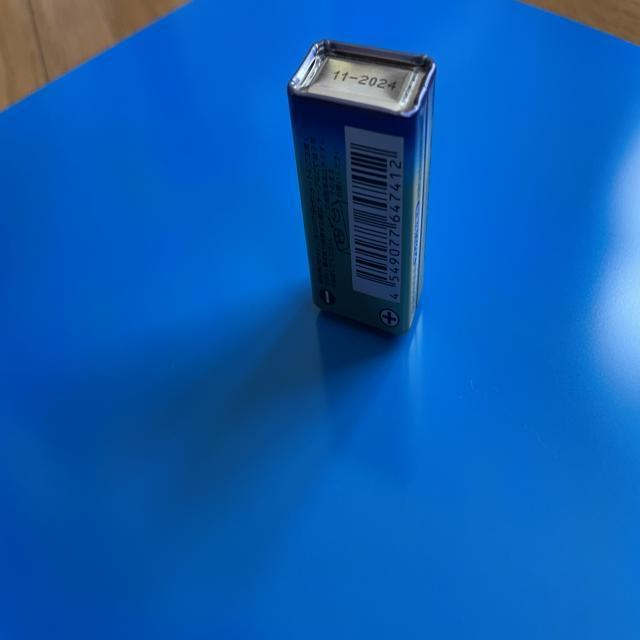9V: (286, 41, 437, 335)
